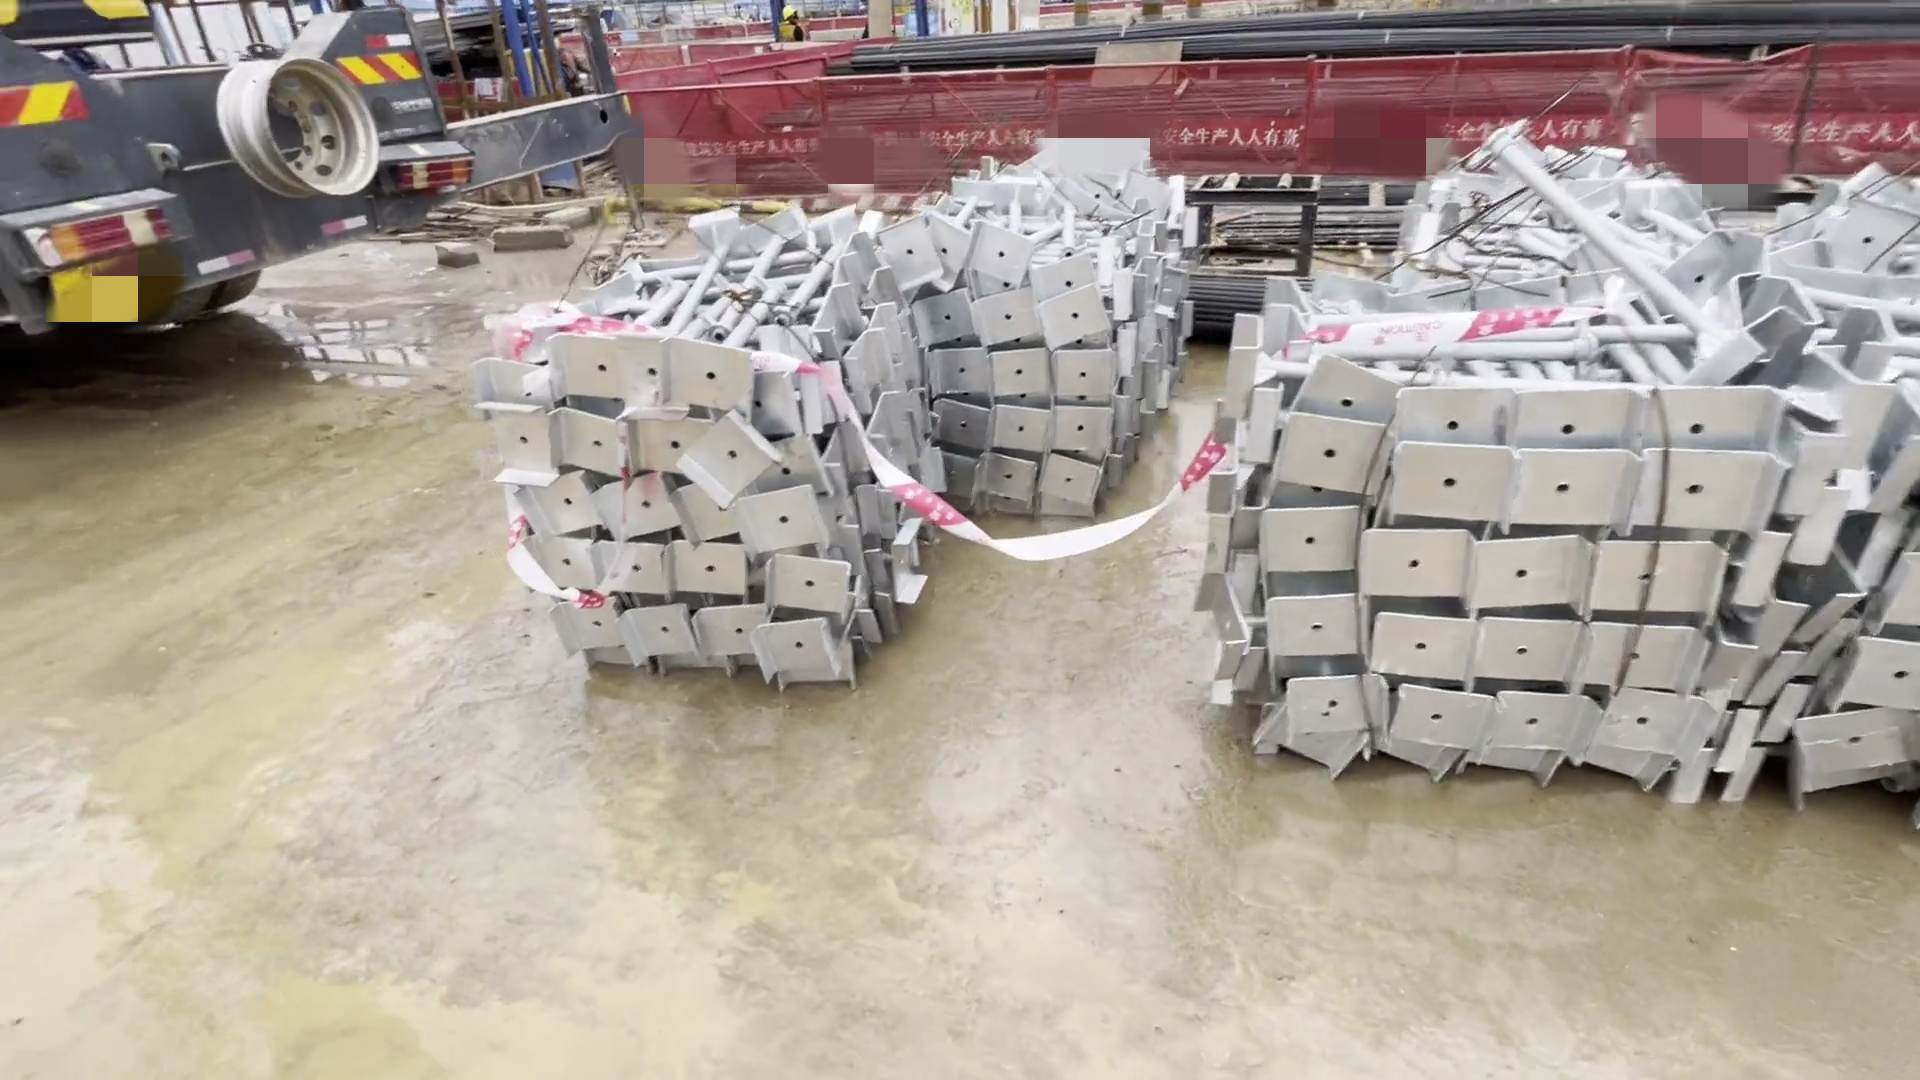fence: (604, 70, 1920, 208)
